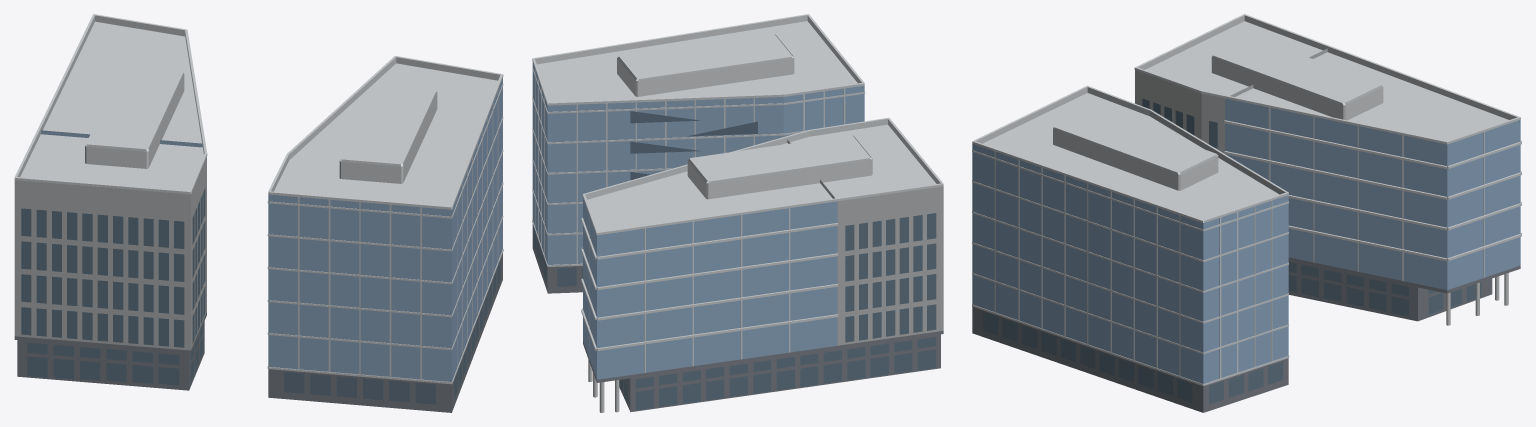
The model's file is detail.glb.
The picture shows the model from 3 angles, left to right: view 1: azimuth 30°, elevation 25°; view 2: azimuth 150°, elevation 25°; view 3: azimuth 270°, elevation 25°; orthographic projection. The views are drawn at different scales.
Parts seen in each view (by area): view 1: vantage-south-end; view 2: vantage-south-end; view 3: vantage-south-end.
Boxes of the visible parts, x1,y1,x2,y2 form: vantage-south-end: (14, 14, 503, 412); vantage-south-end: (532, 14, 943, 412); vantage-south-end: (972, 14, 1521, 412).
Bounding box in the file's own units: 125 × 55.7 × 136.
